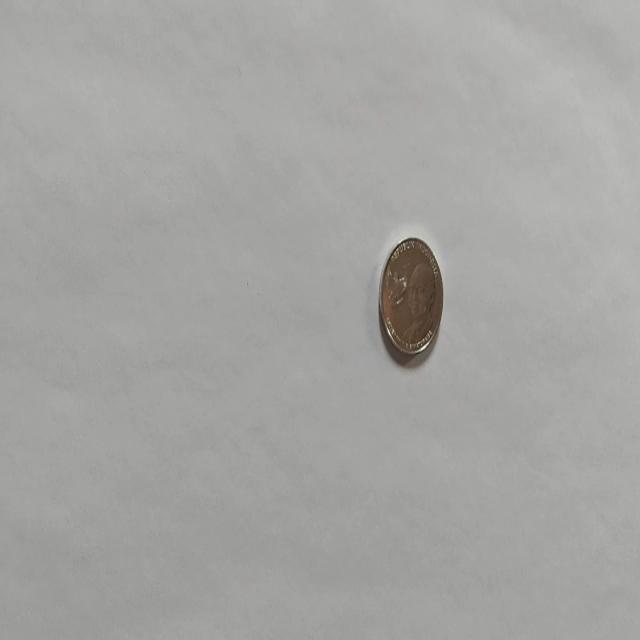lima ratus rupiah: (378, 235, 444, 358)
